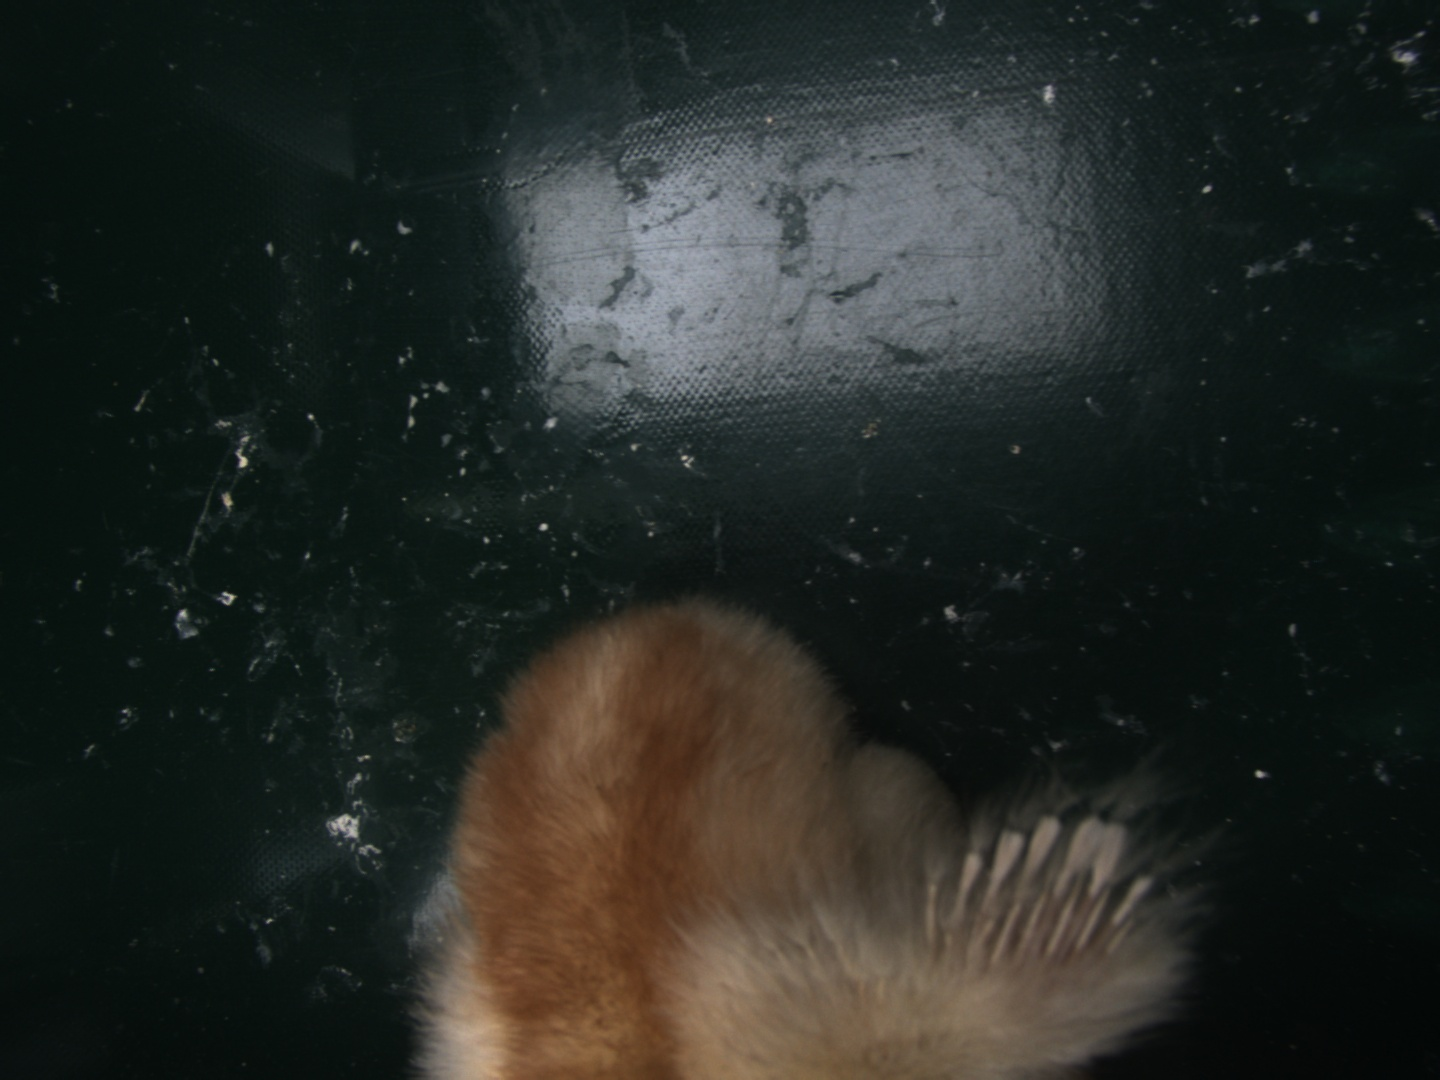female: (927, 822, 1155, 978)
